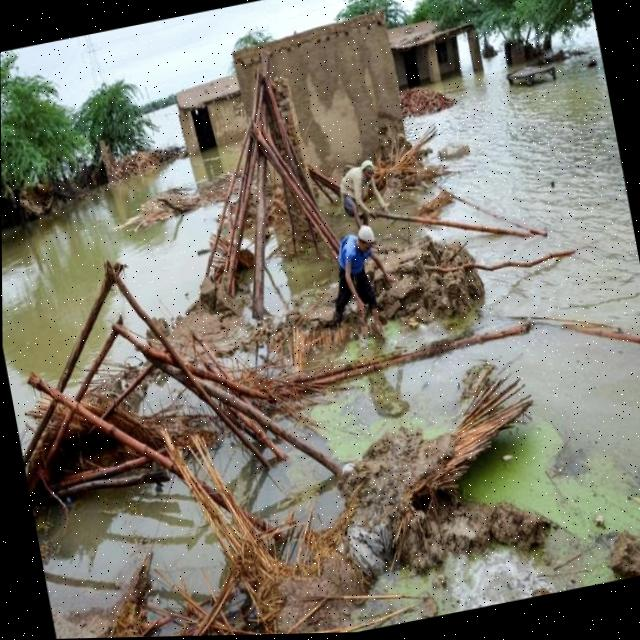civilian: (330, 213, 400, 330), (329, 154, 395, 227)
